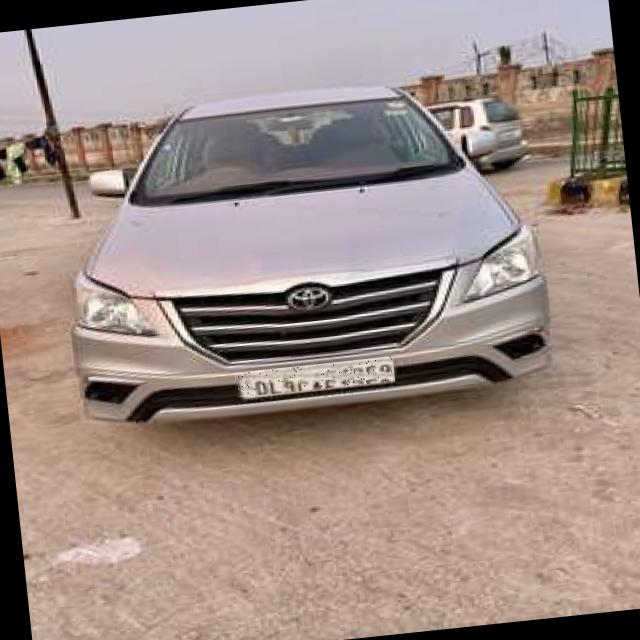Plate: (235, 357, 396, 398)
